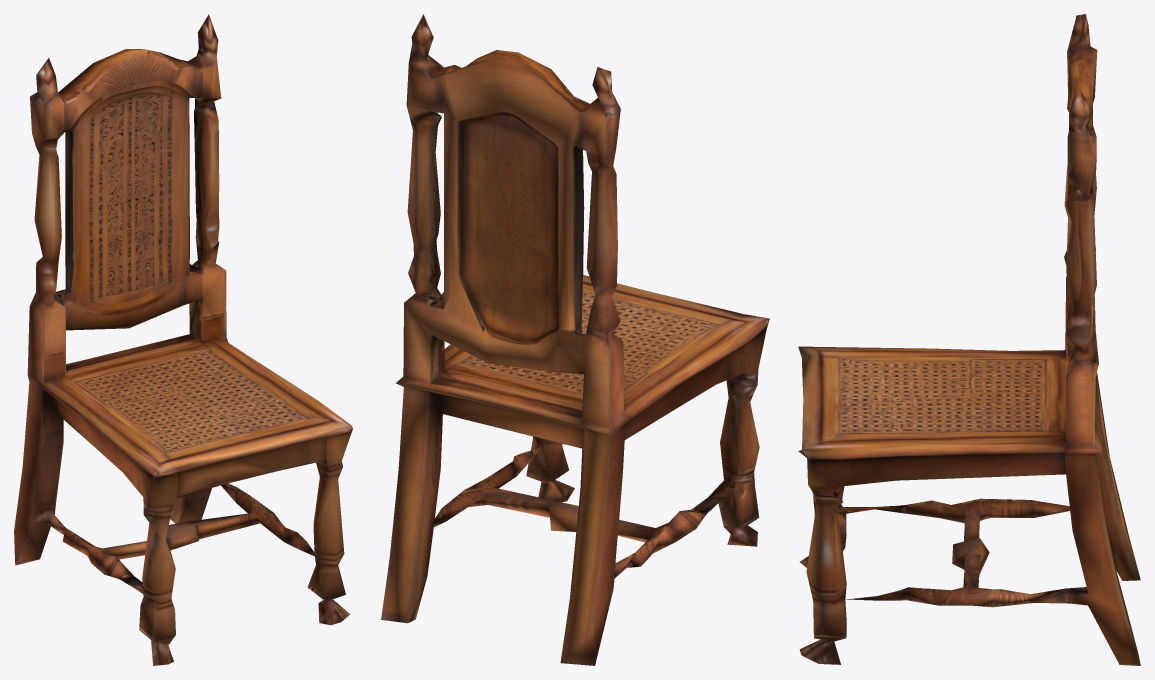
The model's file is Vintage Chair.glb.
3 renders of one model, left to right at view 1: azimuth 30°, elevation 25°; view 2: azimuth 150°, elevation 25°; view 3: azimuth 270°, elevation 25°, orthographic. The views are drawn at different scales.
Bounding box in the file's own units: 0.7781 × 1.91 × 1.04.
Materials: 1 (1 with a texture image).
